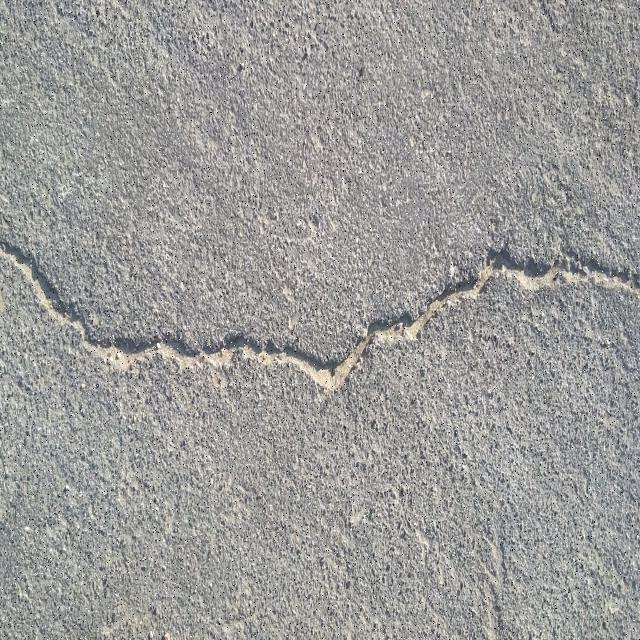Crack: (0, 235, 640, 393)
